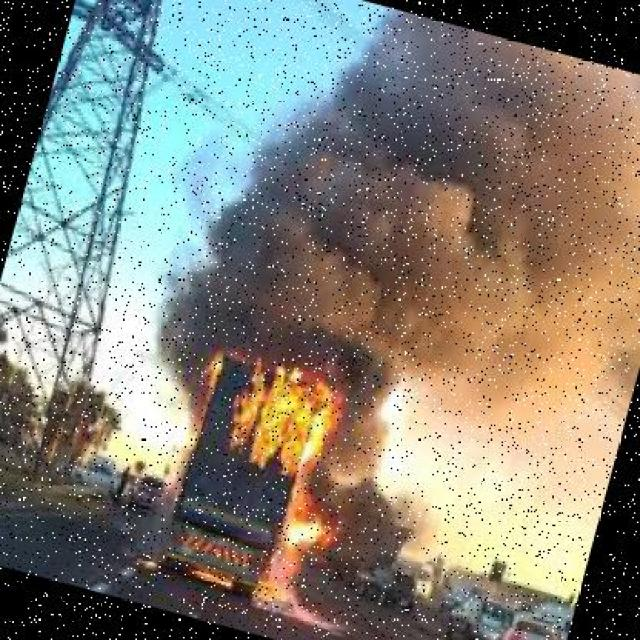fire: (149, 330, 382, 618)
